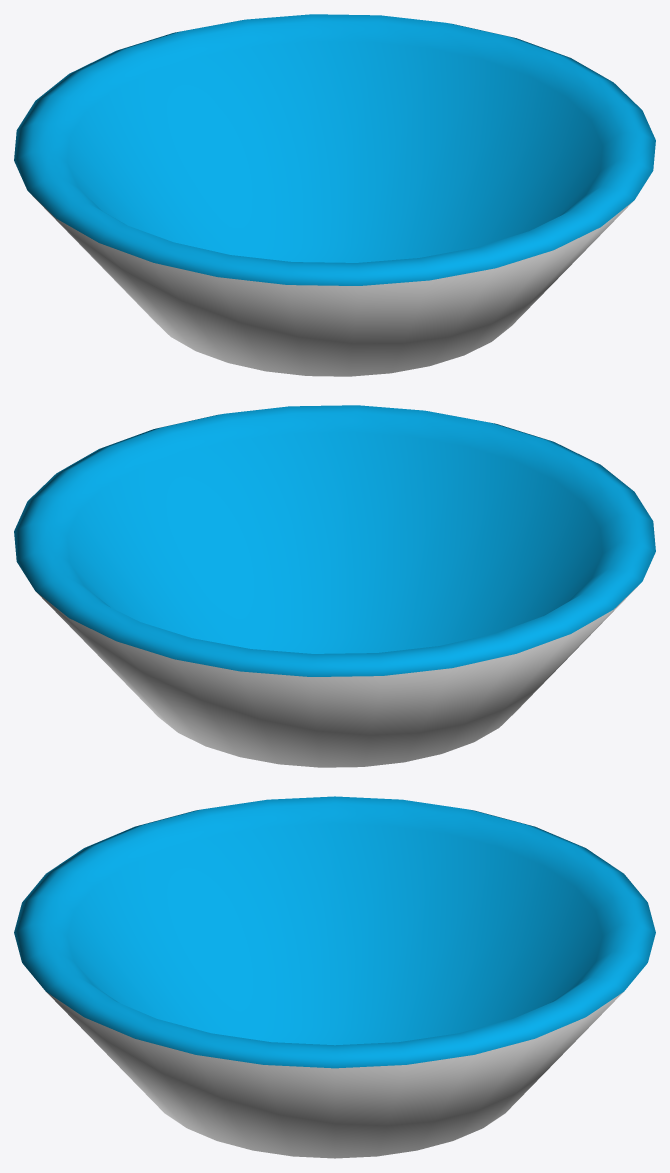
File: Blue_bowl.fbx
3 views of the same model, one above another, from view 1: azimuth 30°, elevation 25°; view 2: azimuth 150°, elevation 25°; view 3: azimuth 270°, elevation 25° (orthographic).
Visible parts, largest first — view 1: Blue_bowl; view 2: Blue_bowl; view 3: Blue_bowl.
Boxes of the visible parts, left/top/right/bottom form: Blue_bowl: left=14, top=14, right=655, bottom=376; Blue_bowl: left=14, top=405, right=655, bottom=767; Blue_bowl: left=14, top=796, right=655, bottom=1158.
Size of the model in its own units: 0.127 by 0.0363 by 0.127.
2 materials, 1 textured.
